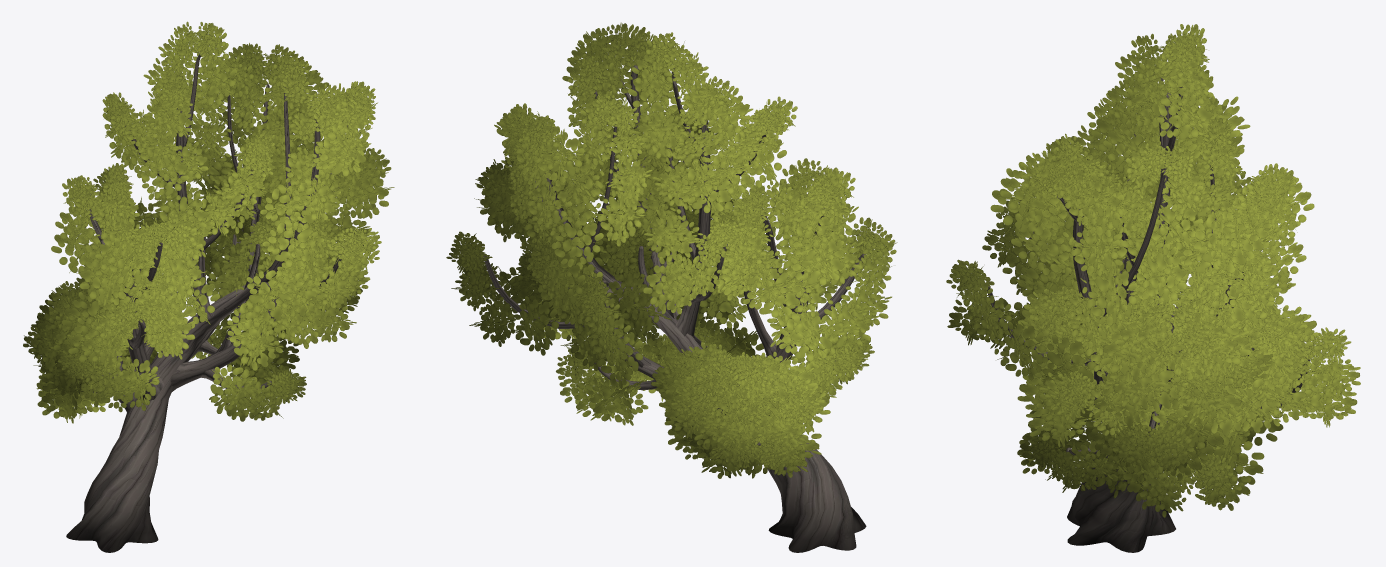
The model's file is Willow_1.glb.
3 renders of one model, left to right at view 1: azimuth 30°, elevation 25°; view 2: azimuth 150°, elevation 25°; view 3: azimuth 270°, elevation 25°, orthographic. The views are drawn at different scales.
Visible parts, largest first — view 1: TwistedTree_1; view 2: TwistedTree_1; view 3: TwistedTree_1.
Boxes of the visible parts, x1,y1,x2,y2 form: TwistedTree_1: [23, 21, 394, 552]; TwistedTree_1: [446, 22, 897, 552]; TwistedTree_1: [946, 24, 1360, 552].
Size of the model in its own units: 13.52 by 16.73 by 11.55.
Materials: 2 (2 with a texture image).
